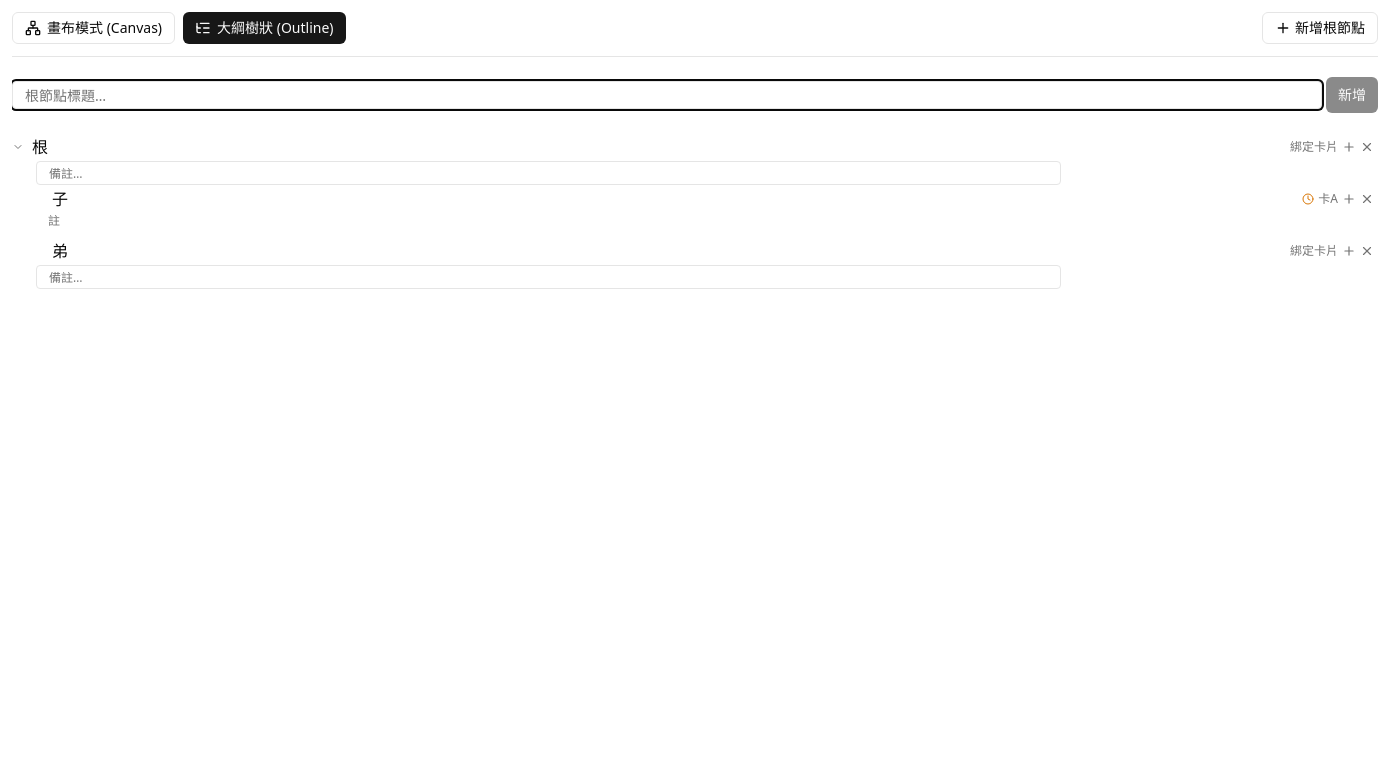
Scenario: 心智圖的審查狀態圖示（大綱列＋畫布節點） › card.reviewState=pending 時圖示的無障礙名稱是 審查狀態：待審查
Click the button "畫布模式 (Canvas)" at point(94, 28), box [12,12,175,44]
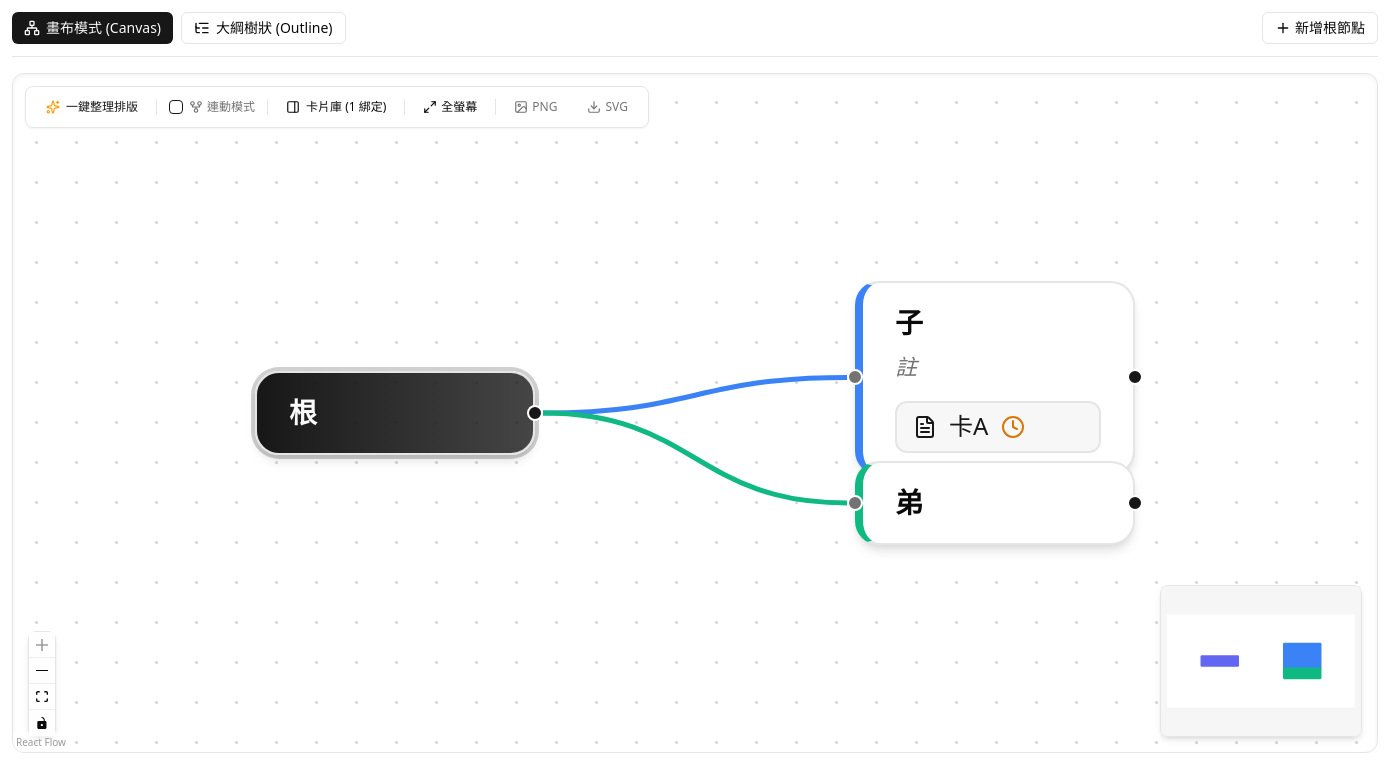
expect the element named "審查狀態：待審查" is shown: met, box [895,400,1101,452]
expect the icon named "審查狀態：待審查" is shown: met, box [1000,414,1024,438]
